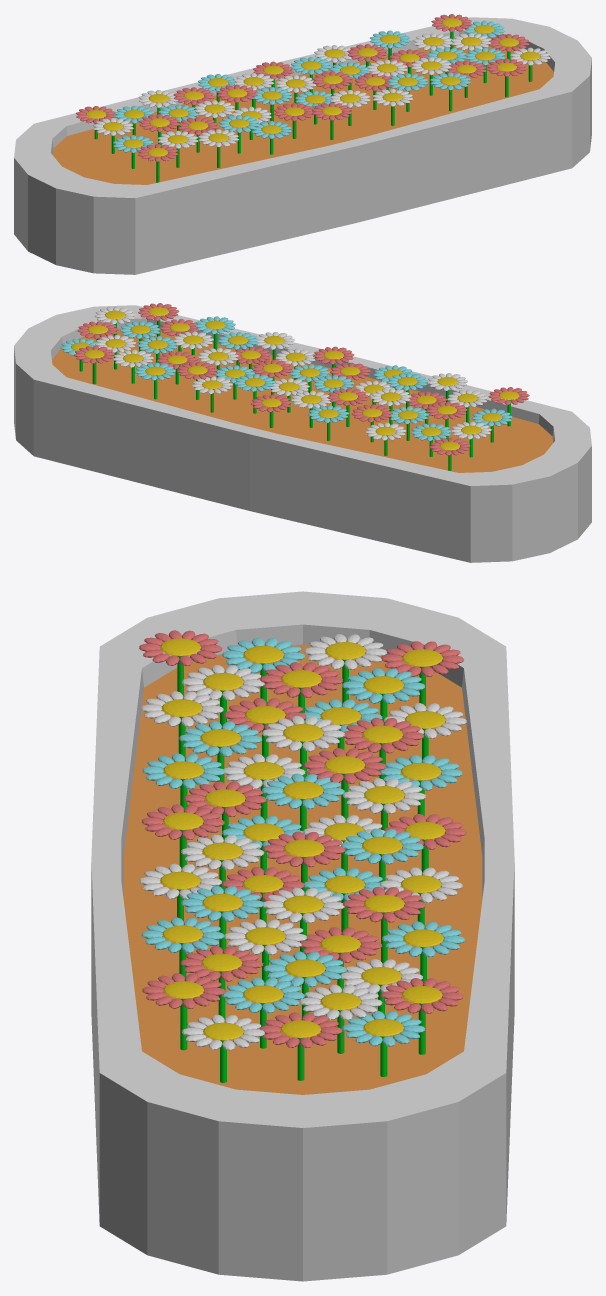
The model's file is flowerBed00.fbx.
3 renders of one model, top to bottom at view 1: azimuth 30°, elevation 25°; view 2: azimuth 150°, elevation 25°; view 3: azimuth 270°, elevation 25°, orthographic. The views are drawn at different scales.
Parts seen in each view (by area): view 1: Cylinder, whiteFlower.003, blueFlower.012, redFlower.001, redFlower.008, redFlower.015, redFlower.006, blueFlower.003, whiteFlower.010, whiteFlower.013, whiteFlower.002, whiteFlower.015 (+38 smaller); view 2: Cylinder, redFlower.017, blueFlower.014, redFlower.010, blueFlower.012, redFlower.007, whiteFlower.002, blueFlower.007, whiteFlower.012, whiteFlower.005, redFlower.003, redFlower.001 (+38 smaller); view 3: Cylinder, redFlower.015, redFlower.017, redFlower.012, redFlower.016, whiteFlower.015, whiteFlower.016, blueFlower.016, redFlower.007, redFlower.001, whiteFlower.003, blueFlower.010 (+38 smaller).
Boxes of the visible parts, x1,y1,x2,y2 form: Cylinder: [14, 17, 591, 274]; whiteFlower.003: [198, 129, 238, 167]; blueFlower.012: [430, 72, 470, 111]; redFlower.001: [137, 144, 178, 182]; redFlower.008: [311, 102, 351, 139]; redFlower.015: [486, 58, 527, 97]; redFlower.006: [274, 103, 312, 138]; blueFlower.003: [219, 115, 259, 153]; whiteFlower.010: [372, 88, 412, 125]; whiteFlower.013: [411, 57, 451, 95]; whiteFlower.002: [93, 118, 133, 153]; whiteFlower.015: [510, 47, 550, 81]; Cylinder: [14, 305, 591, 562]; redFlower.017: [74, 345, 114, 384]; blueFlower.014: [135, 362, 175, 399]; redFlower.010: [251, 394, 291, 427]; blueFlower.012: [195, 316, 235, 350]; redFlower.007: [327, 388, 368, 426]; whiteFlower.002: [450, 421, 491, 457]; blueFlower.007: [308, 405, 349, 440]; whiteFlower.012: [192, 376, 232, 412]; whiteFlower.005: [365, 422, 406, 455]; redFlower.003: [429, 437, 470, 470]; redFlower.001: [488, 387, 529, 426]; Cylinder: [91, 591, 514, 1281]; redFlower.015: [142, 973, 225, 1050]; redFlower.017: [380, 978, 463, 1054]; redFlower.012: [342, 886, 425, 963]; redFlower.016: [259, 1012, 342, 1080]; whiteFlower.015: [182, 1014, 264, 1082]; whiteFlower.016: [299, 984, 382, 1053]; blueFlower.016: [342, 1010, 425, 1076]; redFlower.007: [303, 748, 386, 822]; redFlower.001: [139, 630, 222, 699]; whiteFlower.003: [140, 691, 223, 758]; blueFlower.010: [181, 885, 264, 953].
Size of the model in its own units: 300 by 51.57 by 100.
